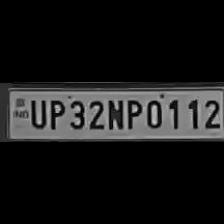0: (142, 96, 164, 130)
1: (164, 96, 182, 130), (182, 96, 198, 130)
2: (200, 96, 222, 130), (86, 97, 104, 131)
3: (66, 96, 84, 130)
N: (105, 96, 123, 130)
P: (122, 96, 142, 130), (46, 96, 64, 130)
U: (27, 97, 45, 129)
